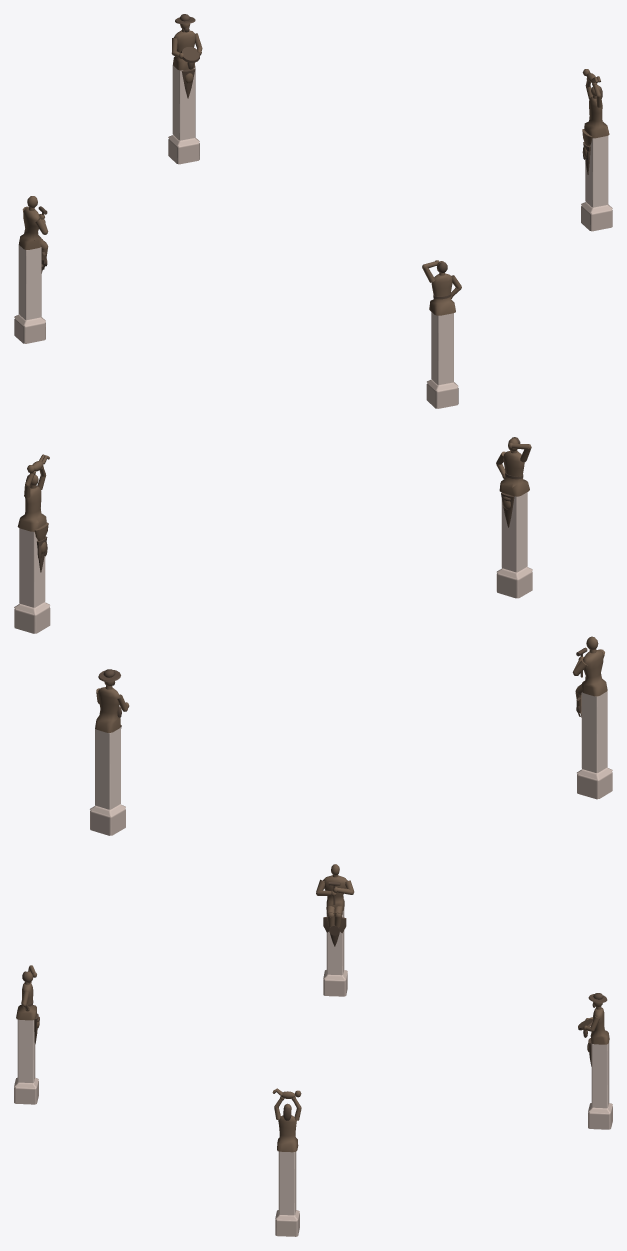
File: detail.glb
3 views of the same model, one above another, from view 1: azimuth 30°, elevation 25°; view 2: azimuth 150°, elevation 25°; view 3: azimuth 270°, elevation 25° (orthographic). The views are drawn at different scales.
Parts seen in each view (by area): view 1: independence-square-statues; view 2: independence-square-statues; view 3: independence-square-statues.
Part boxes in pixels (box(x1,y1,x2,y2)): independence-square-statues: box(14, 14, 612, 408); independence-square-statues: box(14, 437, 612, 835); independence-square-statues: box(14, 864, 612, 1236).
Bounding box in the file's own units: 30.88 × 8.06 × 31.2.
